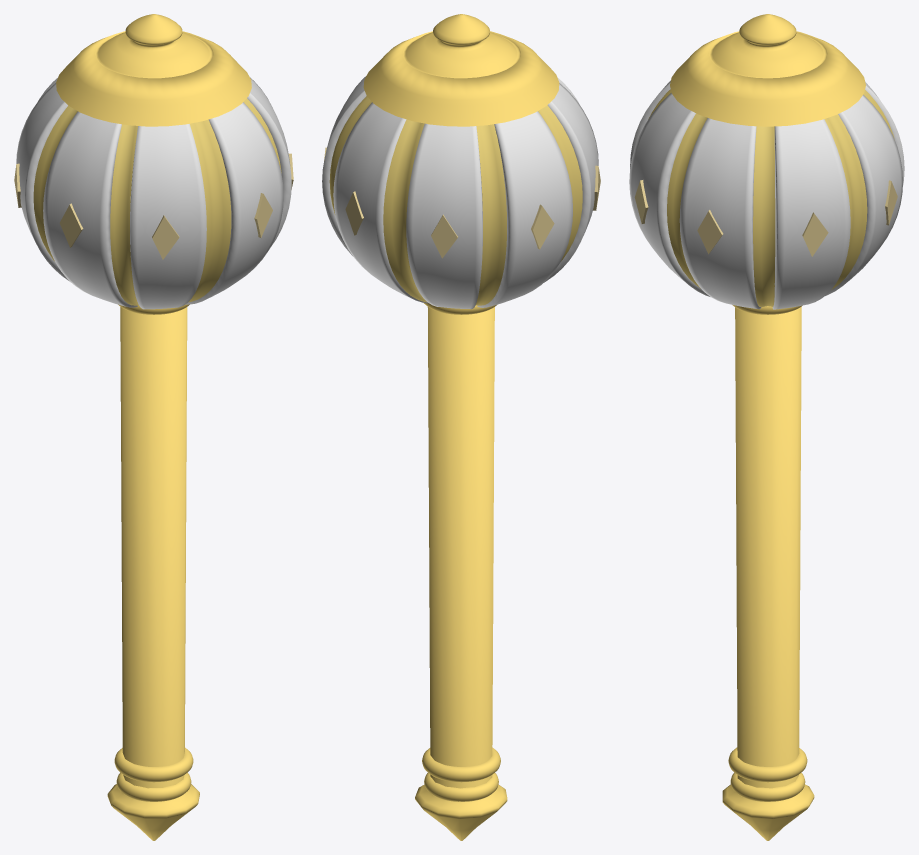
Rendered from Gada Hero_FBX2.fbx.
3 renders of one model, left to right at view 1: azimuth 30°, elevation 25°; view 2: azimuth 150°, elevation 25°; view 3: azimuth 270°, elevation 25°, orthographic.
Visible parts, largest first — view 1: Gada Armor, Cylinder, Cylinder.003, Gada Head, Cube.002; view 2: Cylinder, Gada Armor, Cylinder.003, Gada Head, Cube.002; view 3: Gada Armor, Cylinder, Cylinder.003, Gada Head, Cube.002.
Boxes of the visible parts, x1,y1,x2,y2 form: Gada Armor: [16, 77, 291, 309]; Cylinder: [107, 304, 199, 840]; Cylinder.003: [56, 14, 251, 126]; Gada Head: [33, 98, 281, 305]; Cube.002: [14, 153, 293, 259]; Cylinder: [415, 302, 507, 840]; Gada Armor: [322, 76, 598, 309]; Cylinder.003: [363, 14, 559, 126]; Gada Head: [329, 96, 582, 305]; Cube.002: [324, 147, 600, 258]; Gada Armor: [629, 80, 904, 309]; Cylinder: [722, 305, 814, 840]; Cylinder.003: [670, 14, 865, 126]; Gada Head: [648, 89, 894, 306]; Cube.002: [634, 180, 897, 256].
Size of the model in its own units: 209 by 683 by 207.
4 materials, 3 textured.
